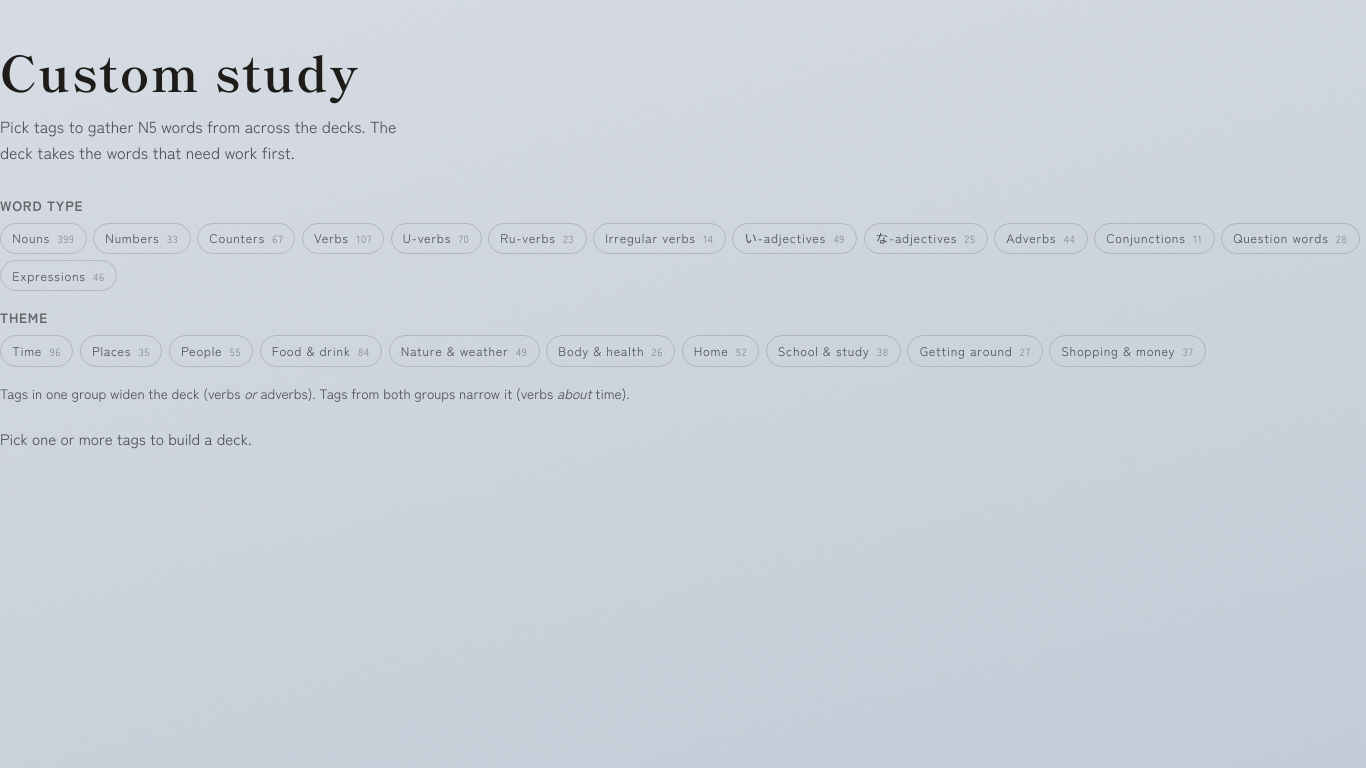
CustomView › says so when nothing matches
The width and height of the screenshot is (1366, 768).
Click the button with class "tag-chip" showing "Conjunctions 11".
click(1154, 238)  # box [1094,223,1215,254]
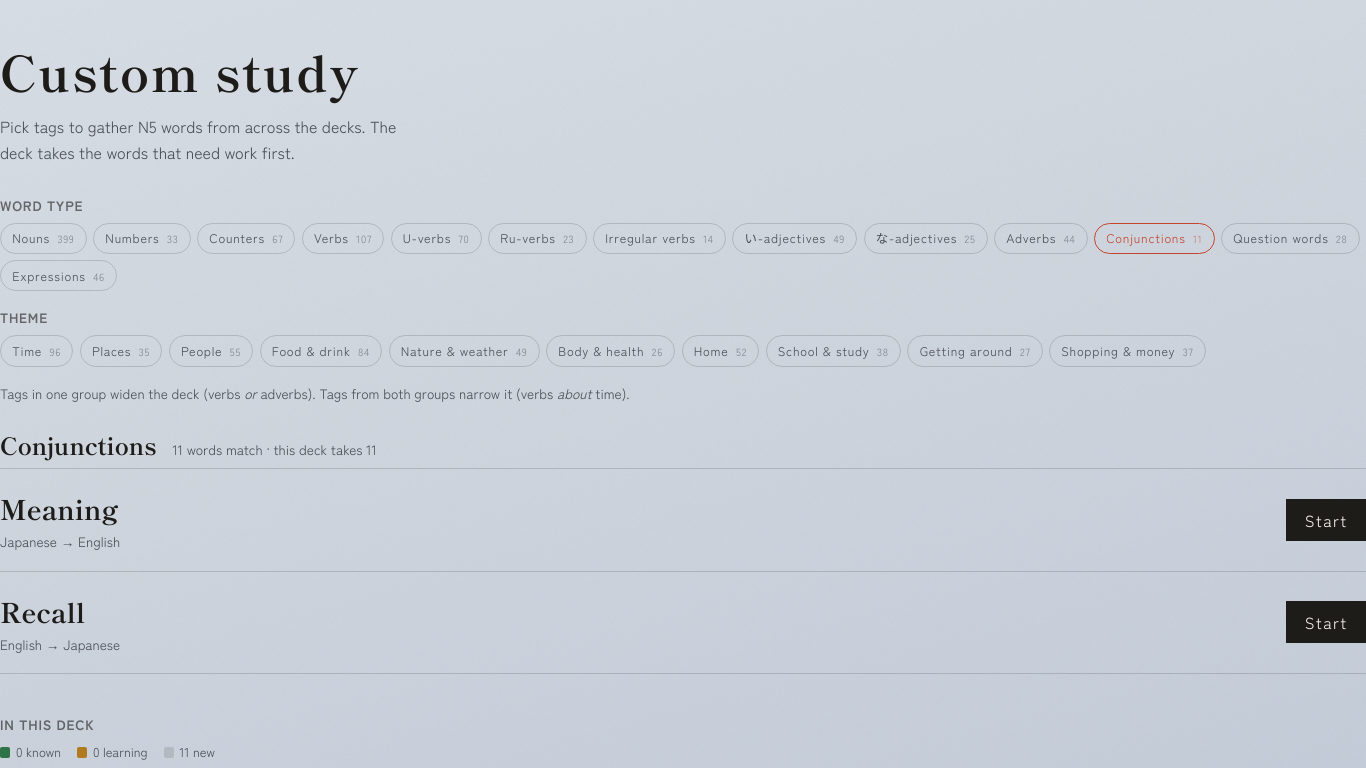
Click the button with class "tag-chip" showing "Food & drink 84".
click(321, 351)  # box [260,335,382,367]
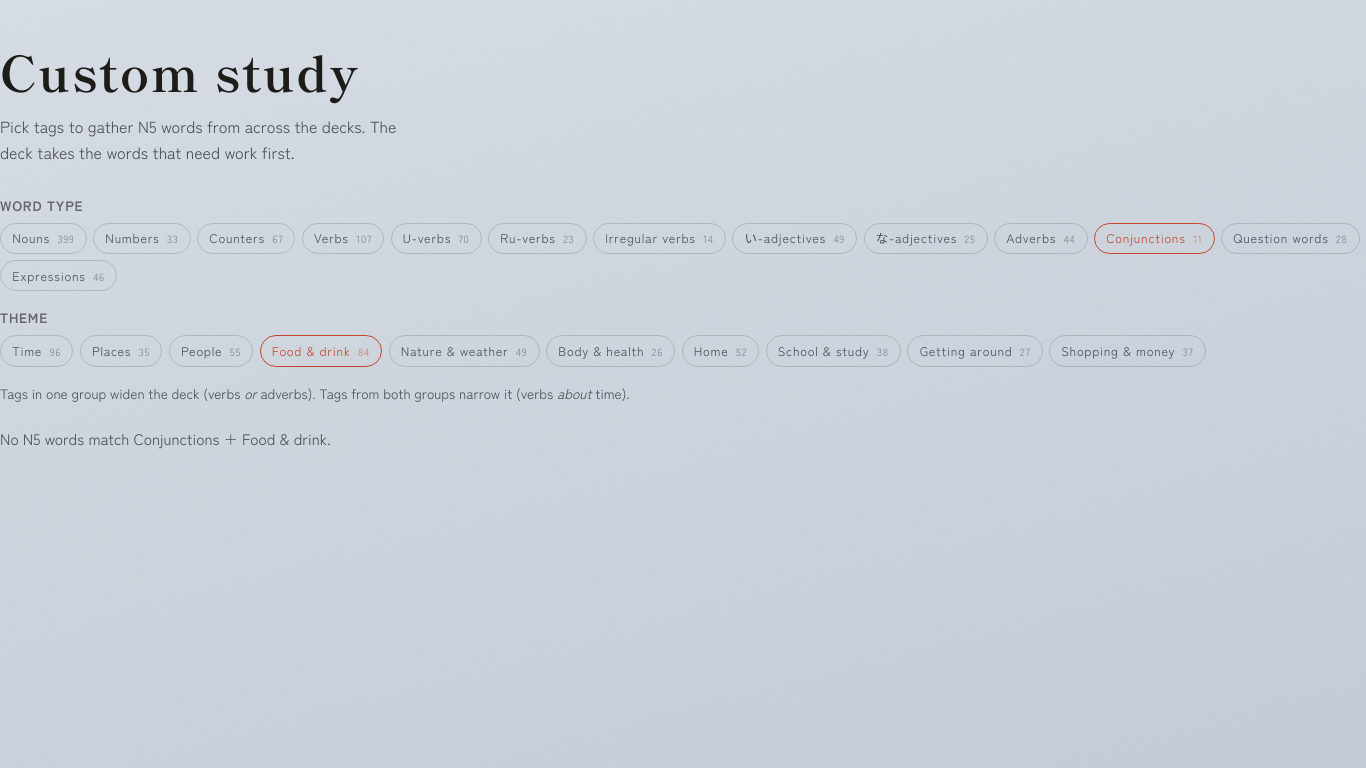
Check: the text "No N5 words match Conjunctions + Food & drink." is shown, box [0,426,331,448]
